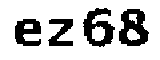6: (81, 5, 115, 50)
8: (116, 9, 150, 50)
e: (11, 16, 42, 49)
z: (45, 16, 76, 50)
